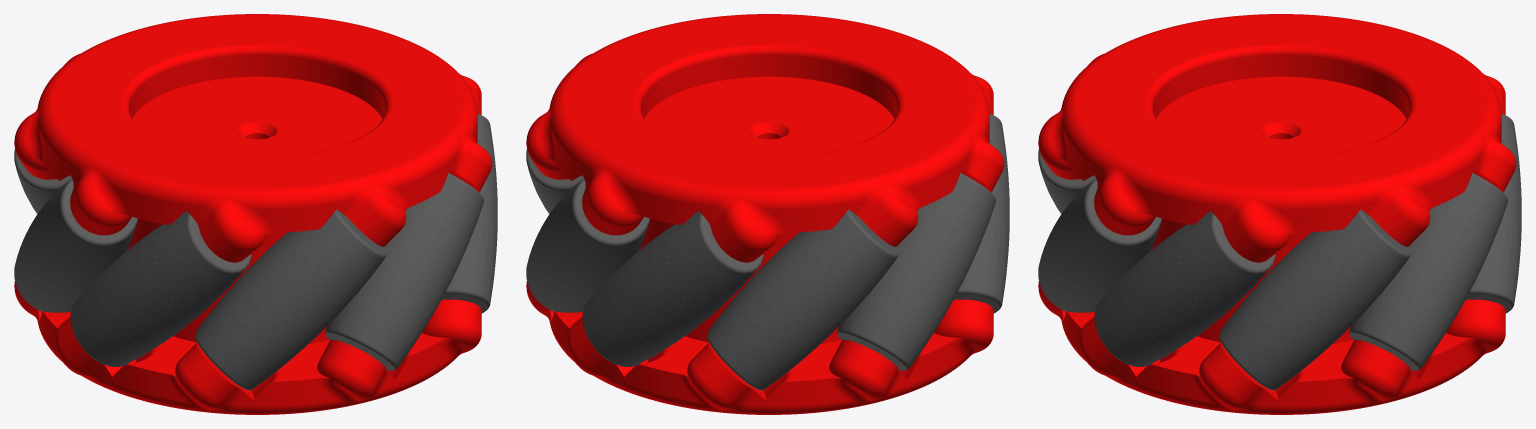
The model's file is mecanum_60mm_L.glb.
3 views of the same model, side by side, from view 1: azimuth 30°, elevation 25°; view 2: azimuth 150°, elevation 25°; view 3: azimuth 270°, elevation 25° (orthographic).
Parts seen in each view (by area): view 1: Node1, Node3, Node2; view 2: Node1, Node3, Node2; view 3: Node1, Node3, Node2.
Boxes of the visible parts, left/top/right/bottom form: Node1: left=14, top=14, right=492, bottom=414; Node3: left=14, top=114, right=497, bottom=390; Node2: left=26, top=73, right=481, bottom=411; Node1: left=526, top=14, right=1004, bottom=414; Node3: left=526, top=114, right=1009, bottom=390; Node2: left=526, top=44, right=993, bottom=405; Node1: left=1039, top=14, right=1514, bottom=414; Node3: left=1038, top=114, right=1521, bottom=390; Node2: left=1038, top=44, right=1516, bottom=405.
Size of the model in its own units: 60.45 by 31 by 60.33.
